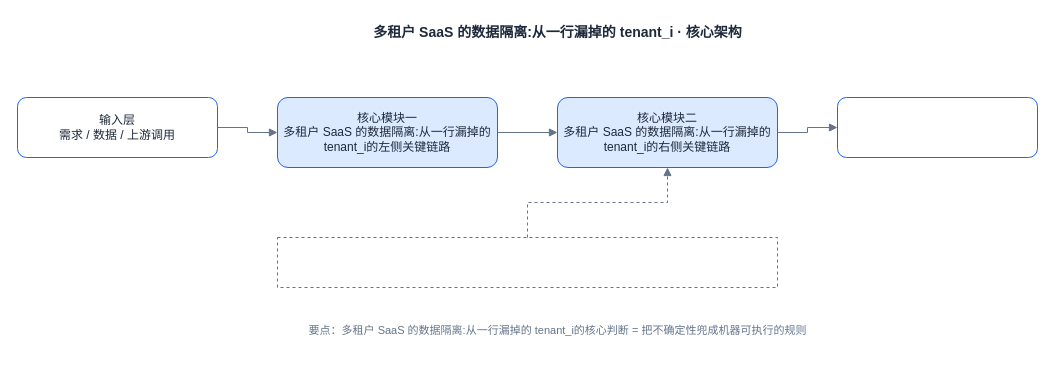
Some shapes in this 1055 by 369 pixel diagram are drawn without their labels. Each missing label, with the centre of its shape:
兜底层 质量 / 安全 / 监控 / 评审: the point at 527,262
输出 / 结果 产物 / 上线 / 反馈: the point at 937,127
